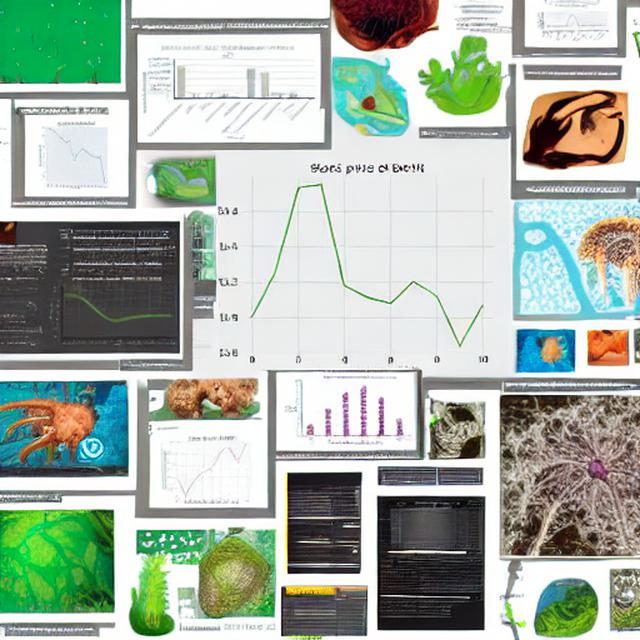Graph: (217, 150, 509, 369), (137, 43, 317, 142), (45, 273, 180, 353), (281, 372, 412, 448), (25, 117, 126, 193), (161, 432, 260, 506), (533, 0, 611, 45), (390, 507, 462, 551)
